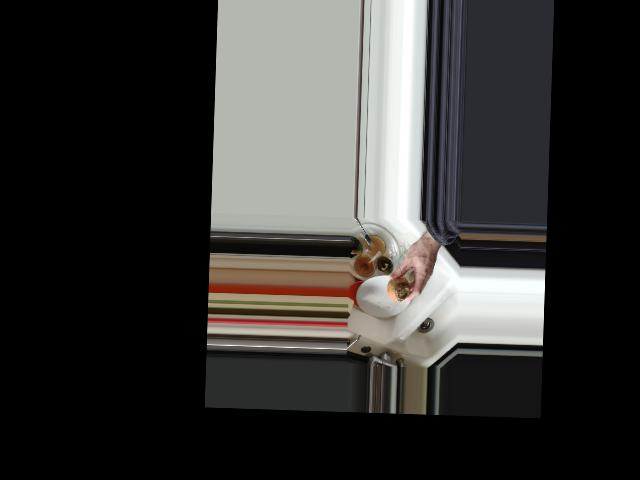sweet_potato: (385, 270, 411, 303)
